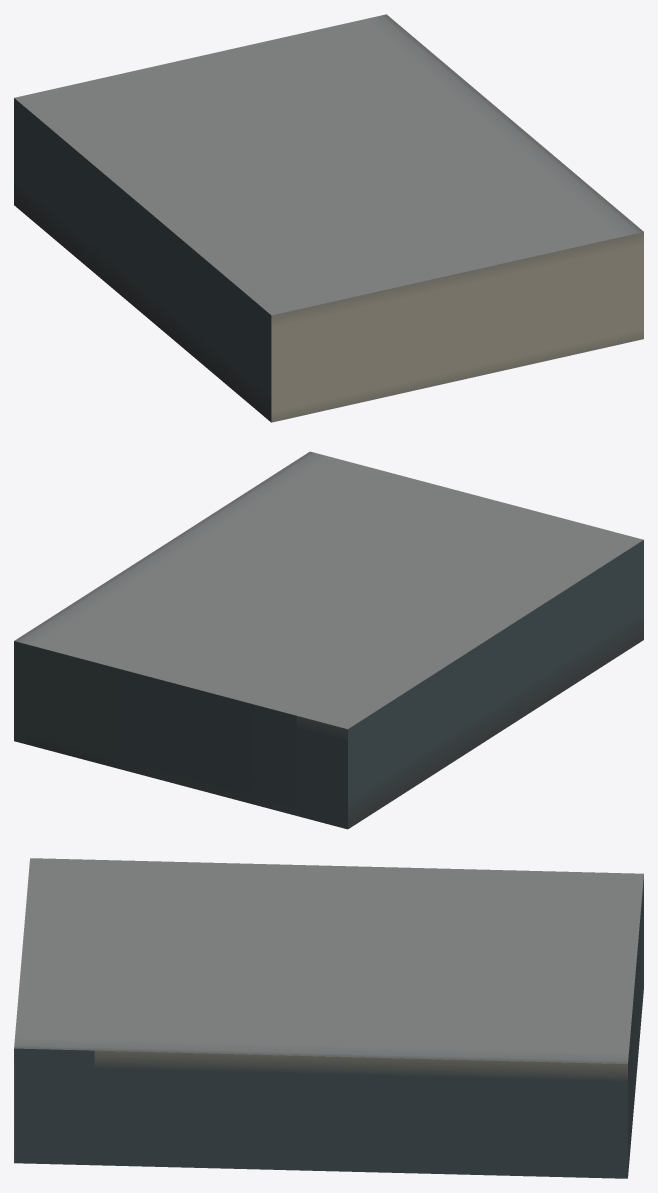
The model's file is Office222222222.fbx.
The picture shows the model from 3 angles, top to bottom: view 1: azimuth 30°, elevation 25°; view 2: azimuth 150°, elevation 25°; view 3: azimuth 270°, elevation 25°; orthographic projection. The views are drawn at different scales.
Parts seen in each view (by area): view 1: Office roof; view 2: Office roof; view 3: Office roof.
Boxes of the visible parts, box(x1,y1,x2,y2) form: Office roof: box(14, 14, 643, 422); Office roof: box(14, 451, 643, 829); Office roof: box(14, 858, 643, 1178).
Size of the model in its own units: 1140 by 296 by 1474.
1 material, 1 textured.
